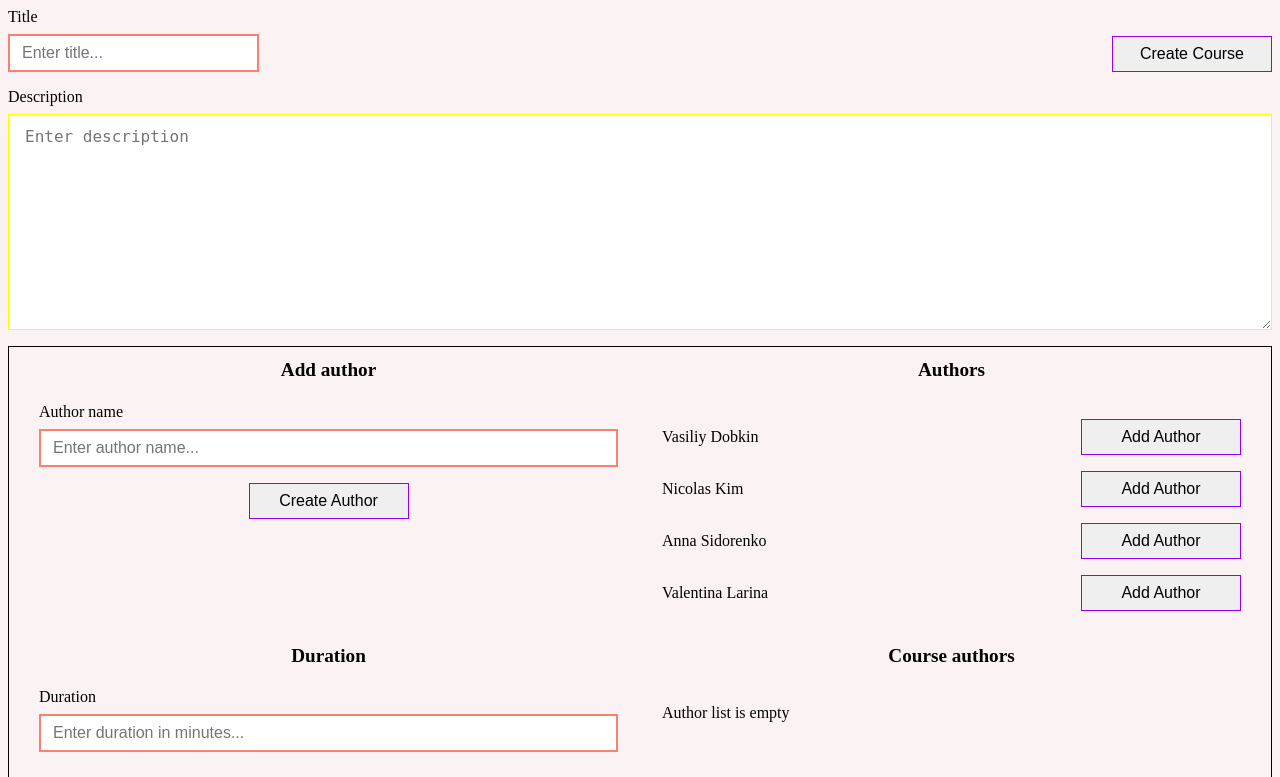
Scenario: CourseForm component › "Delete author" button click should delete an author from the course list
This screenshot has width=1280, height=777.
Click the button "add author" in the row of "Vasiliy Dobkin" at [1161, 437], box [1081,419,1241,455]
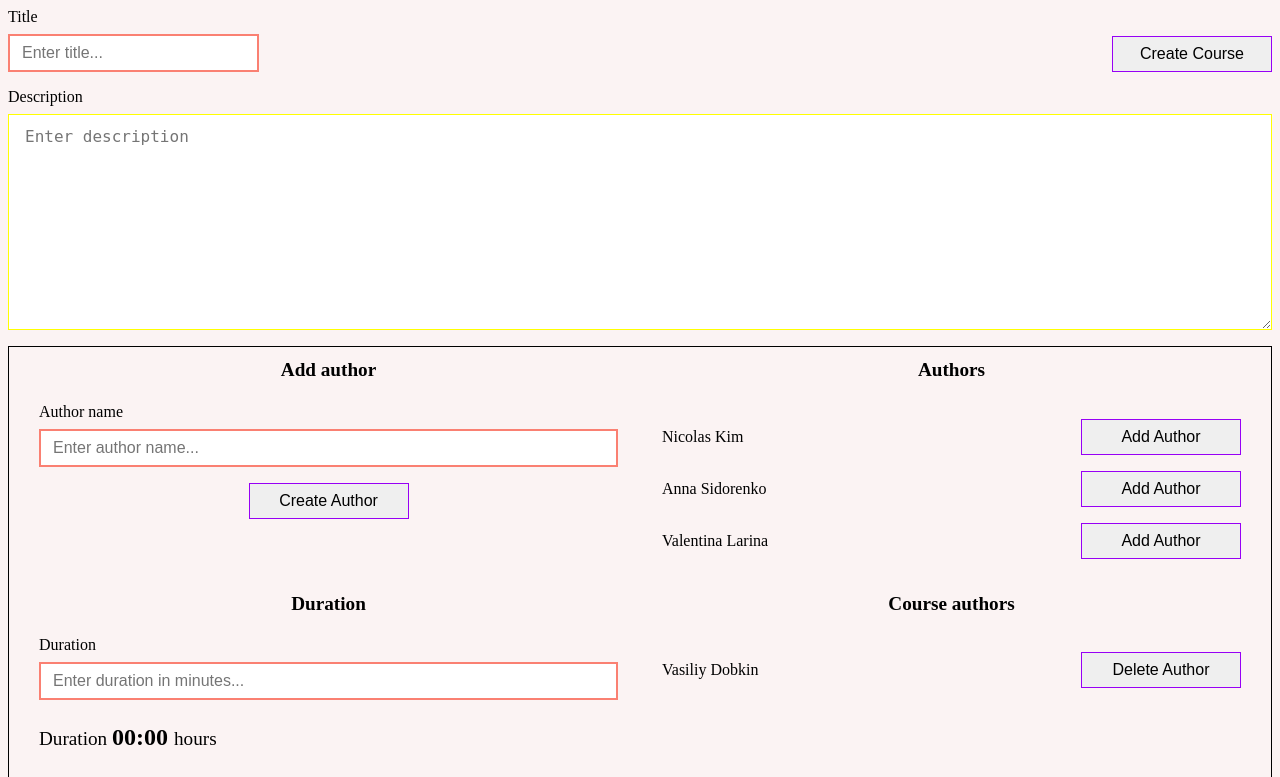
expect the text "Vasiliy Dobkin" is shown: met, box [662,661,758,679]
Click the button "delete author" at [1161, 670], box [1081,652,1241,688]
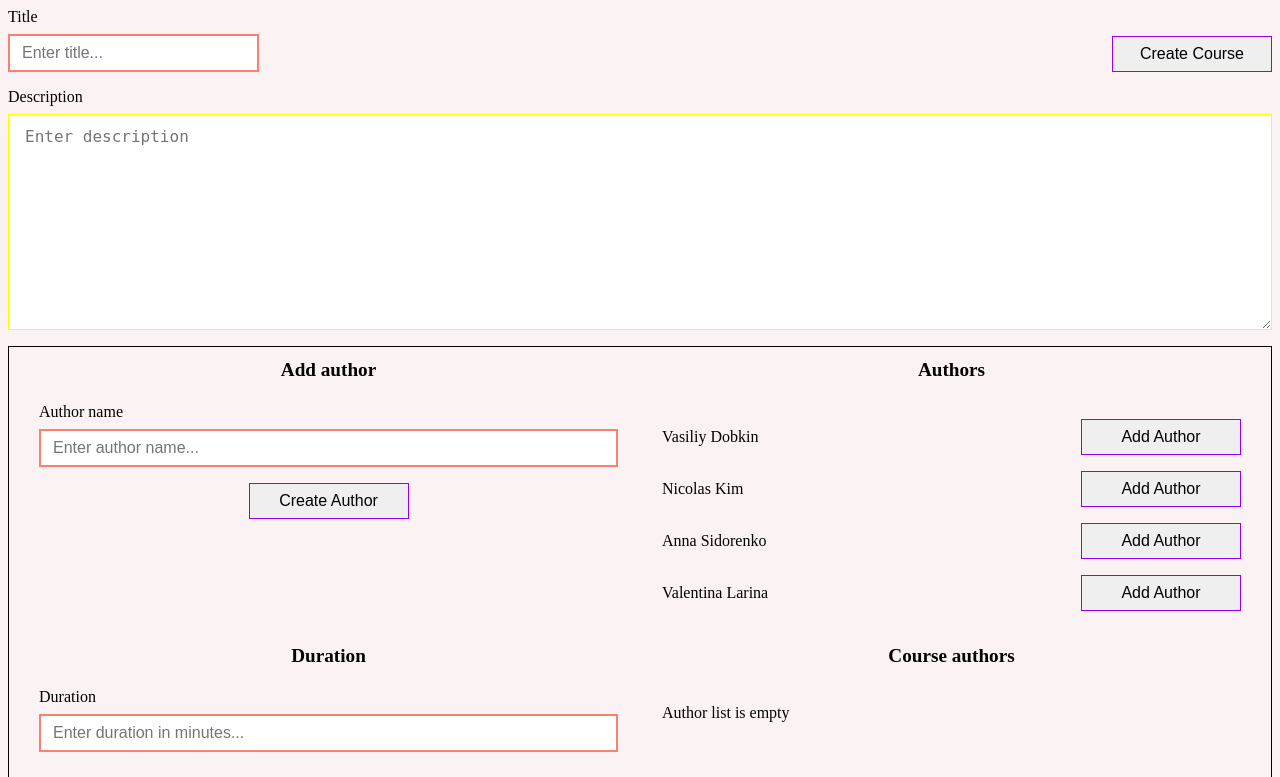
expect the text "Author list is empty" is shown: met, box [662,704,790,721]
